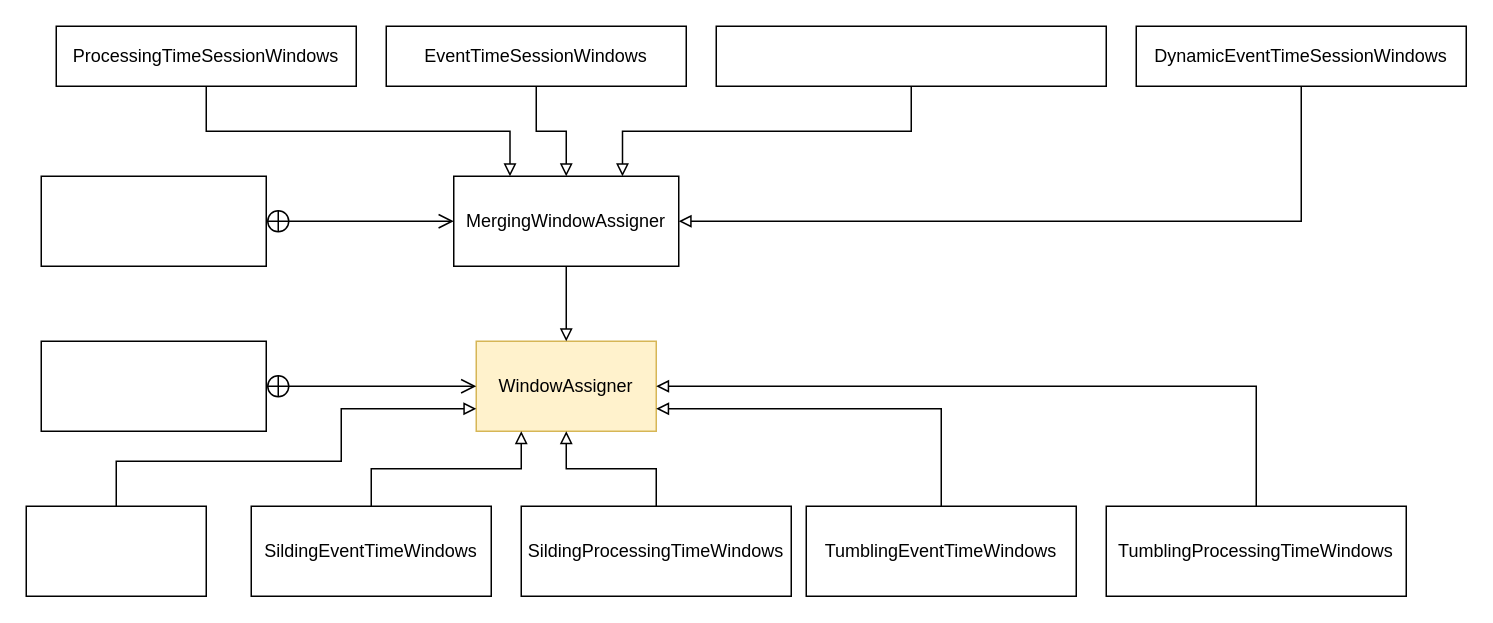
Some shapes in this 1493 by 623 pixel diagram are drawn without their labels. Here are the shapes that lost their labels. From the top down, the box of each, then its label:
(715, 25, 1106, 86): DynamicProcessingTimeSessionWindows
(40, 175, 266, 266): MergeCallback
(40, 340, 266, 431): WindowAssignerContext
(25, 505, 206, 596): GlobalWindows
